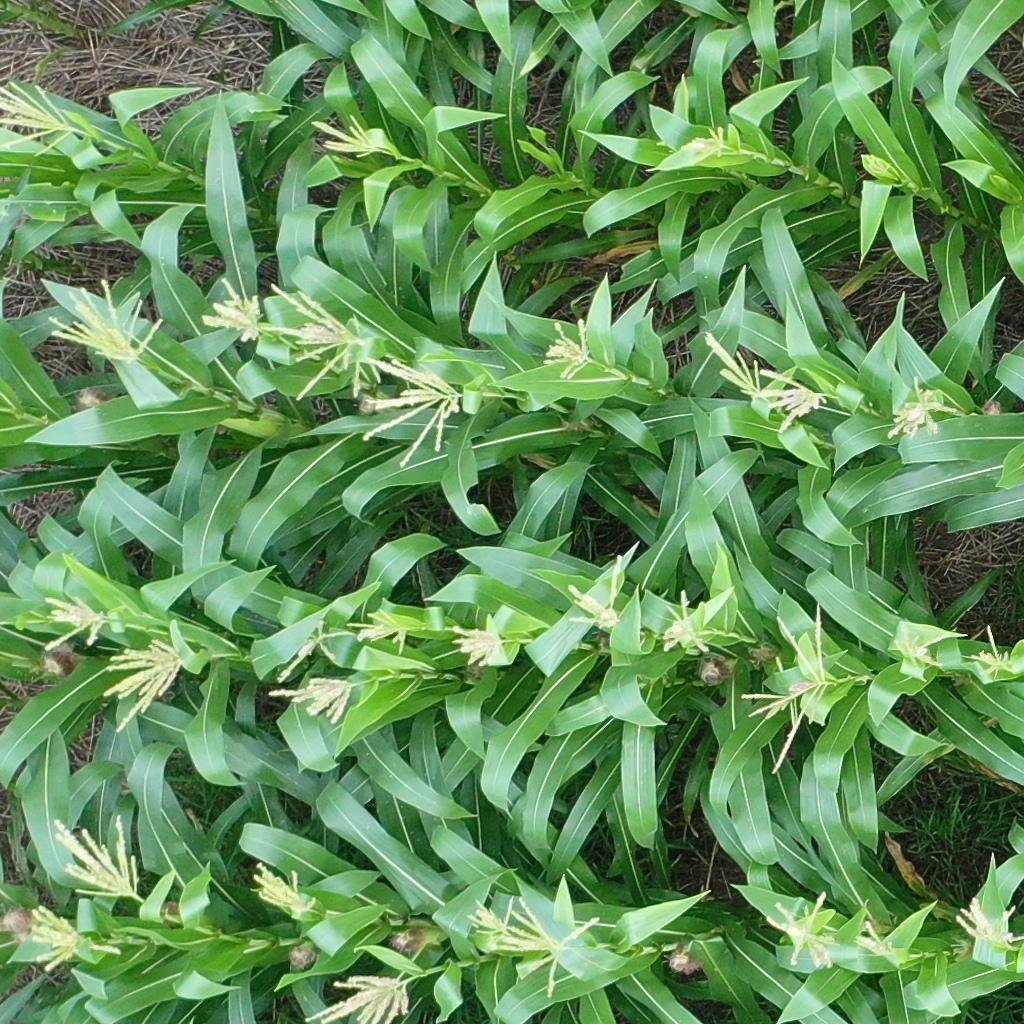Tassel: (734, 598, 848, 778), (272, 284, 377, 404), (361, 352, 468, 466), (493, 896, 601, 1001), (42, 276, 163, 369), (51, 813, 151, 901), (104, 637, 190, 736), (22, 904, 126, 972), (762, 886, 842, 973), (1, 77, 77, 157), (304, 971, 414, 1024), (884, 373, 958, 445), (756, 368, 831, 436), (198, 274, 271, 343), (561, 552, 622, 633), (33, 594, 114, 654), (268, 672, 361, 724), (274, 617, 351, 679), (951, 894, 1024, 956), (661, 591, 726, 658), (703, 332, 766, 392), (541, 316, 597, 382), (251, 860, 313, 919), (310, 114, 380, 160), (452, 622, 510, 674), (345, 606, 409, 653), (971, 621, 1017, 681), (892, 623, 946, 674), (676, 119, 734, 165), (468, 892, 519, 940), (851, 918, 898, 959), (859, 151, 888, 177)
